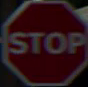Stop: (4, 10, 84, 65)
